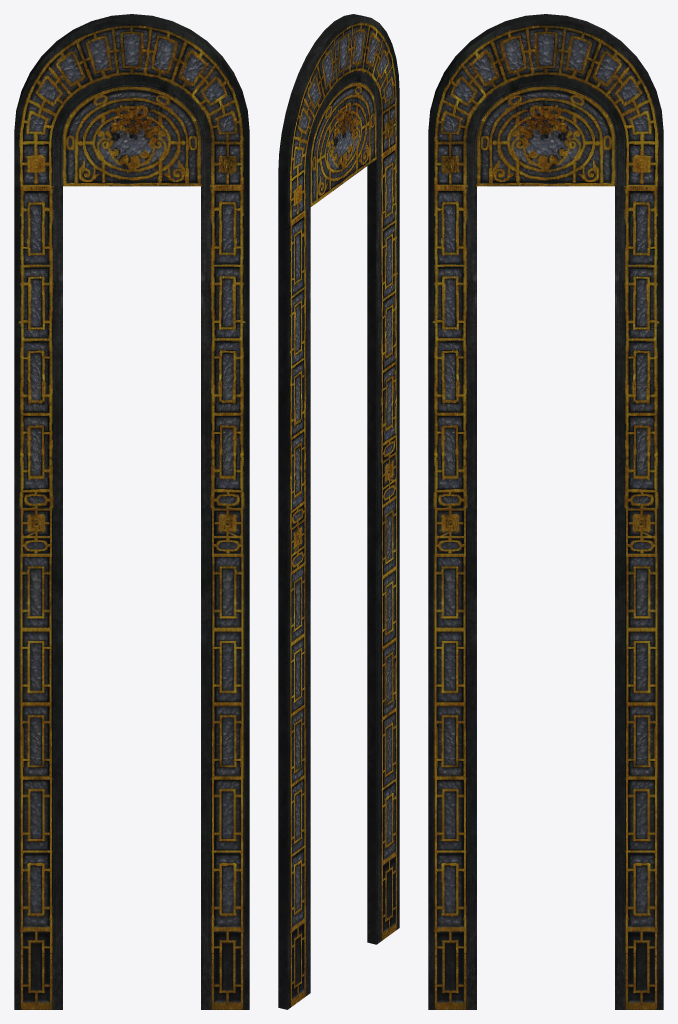
The model's file is KnightCastle_LibraryDoor.FBX.
3 views of the same model, side by side, from view 1: azimuth 90°, elevation 25°; view 2: azimuth 150°, elevation 25°; view 3: azimuth 270°, elevation 25° (orthographic). The views are drawn at different scales.
Visible parts, largest first — view 1: SM_KnightCastle_LibraryDoor; view 2: SM_KnightCastle_LibraryDoor; view 3: SM_KnightCastle_LibraryDoor.
Boxes of the visible parts, x1,y1,x2,y2 form: SM_KnightCastle_LibraryDoor: [14, 14, 249, 1009]; SM_KnightCastle_LibraryDoor: [278, 14, 399, 1009]; SM_KnightCastle_LibraryDoor: [428, 14, 663, 1009].
Size of what is drawn, in the model's own units: 8.45 by 176 by 817.
